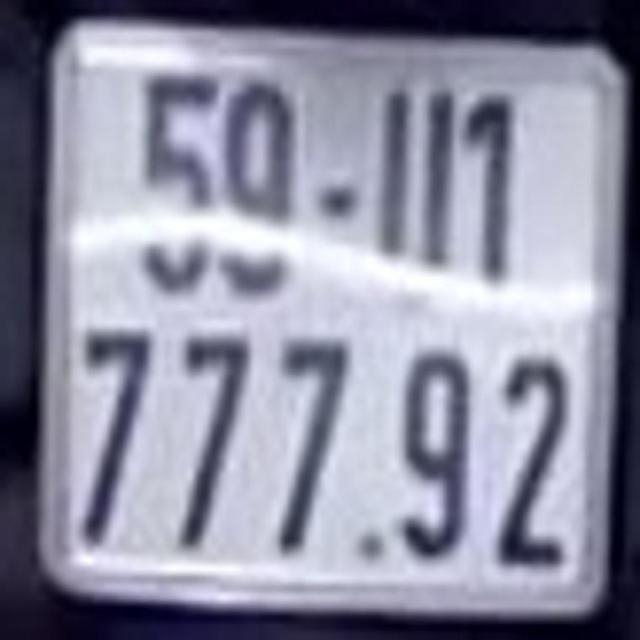1: (463, 90, 518, 323)
2: (499, 355, 569, 568)
5: (139, 70, 216, 292)
7: (274, 333, 350, 554), (78, 323, 152, 547), (178, 329, 250, 550)
9: (221, 76, 298, 297), (400, 346, 470, 559)
U: (374, 85, 456, 314)
